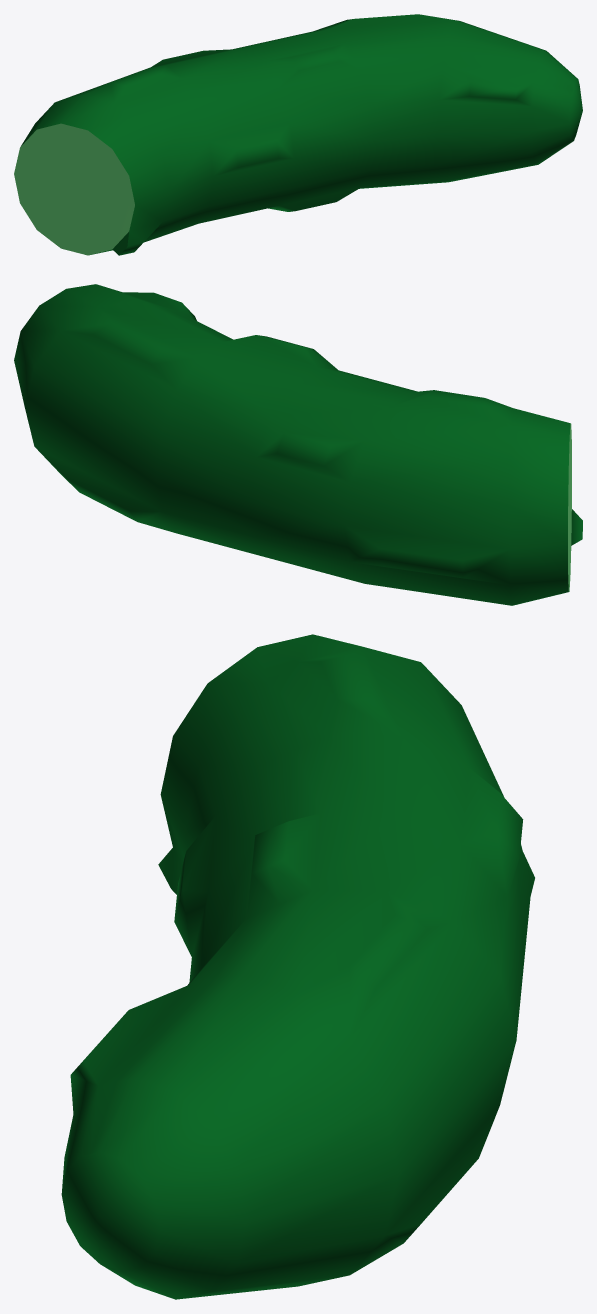
File: mesh_Pickle_Stage03.fbx
3 renders of one model, top to bottom at view 1: azimuth 30°, elevation 25°; view 2: azimuth 150°, elevation 25°; view 3: azimuth 270°, elevation 25°, orthographic. The views are drawn at different scales.
Parts seen in each view (by area): view 1: mesh_Pickle_Stage03; view 2: mesh_Pickle_Stage03; view 3: mesh_Pickle_Stage03.
Part boxes in pixels (<box>): mesh_Pickle_Stage03: <box>14,14,582,255</box>; mesh_Pickle_Stage03: <box>14,284,582,605</box>; mesh_Pickle_Stage03: <box>61,634,534,1299</box>.
Size of the model in its own units: 0.1169 by 0.0356 by 0.0476.
